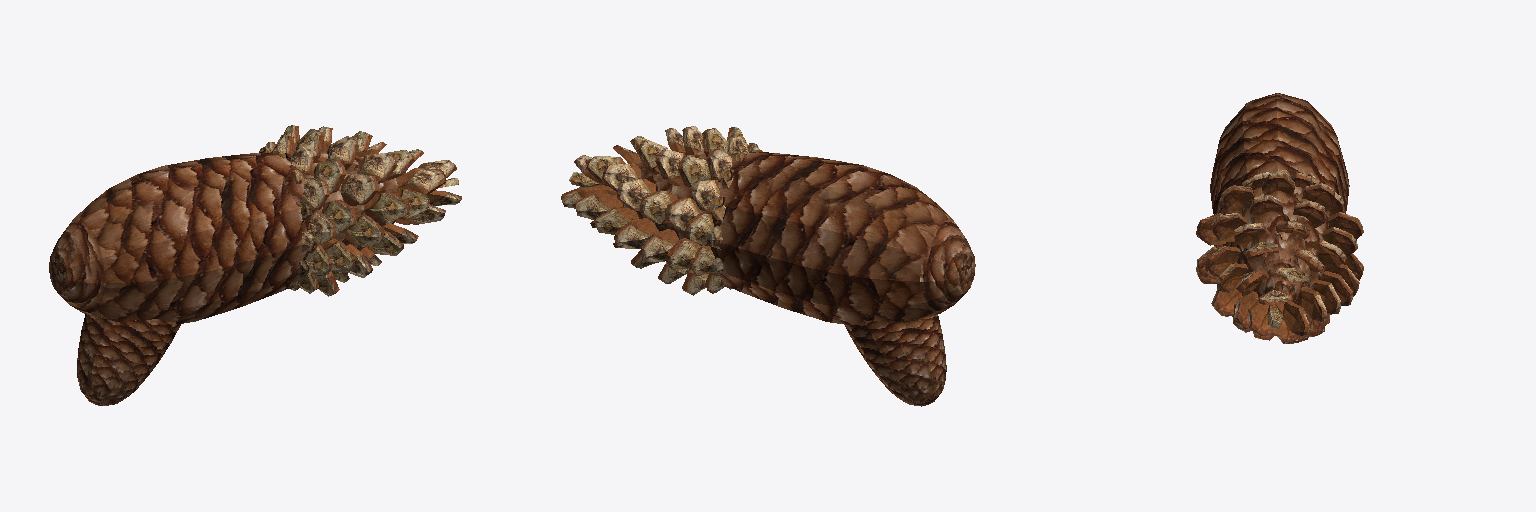
3 renders of one model, left to right at view 1: azimuth 30°, elevation 25°; view 2: azimuth 150°, elevation 25°; view 3: azimuth 270°, elevation 25°, orthographic.
Parts seen in each view (by area): view 1: cone007, cone030, cone007.001; view 2: cone007, cone030, cone007.001; view 3: cone030, cone007.
Part boxes in pixels (x1,y1,x2,y2): cone007: (49,151,398,323); cone030: (259,125,461,296); cone007.001: (77,314,180,405); cone007: (623,152,975,325); cone030: (561,126,762,295); cone007.001: (845,315,946,406); cone030: (1196,170,1363,343); cone007: (1210,93,1349,305).
Bounding box in the file's own units: 1.79 × 0.966 × 0.661.
Materials: 2 (1 with a texture image).